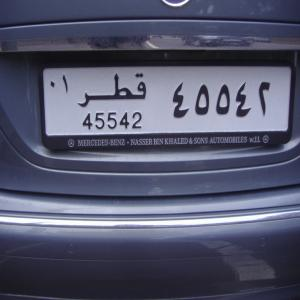Vehicle-registration-plate: (26, 55, 300, 150)
